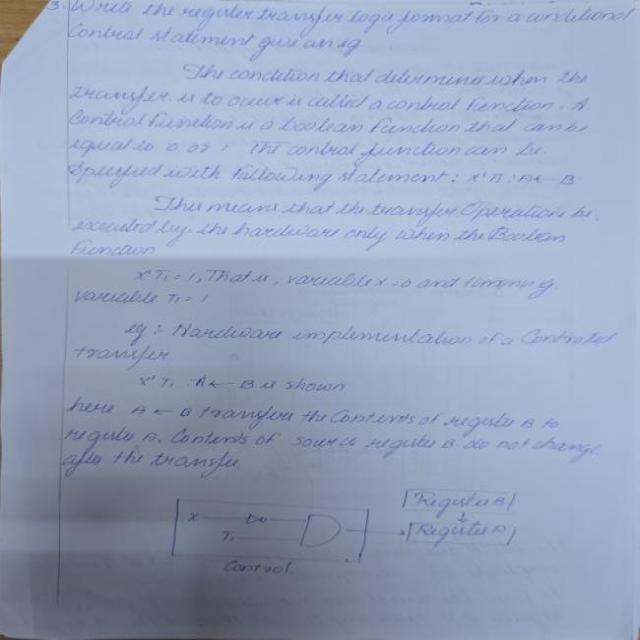Figure Detection - v3 Dataset Version2: (156, 471, 548, 604)
